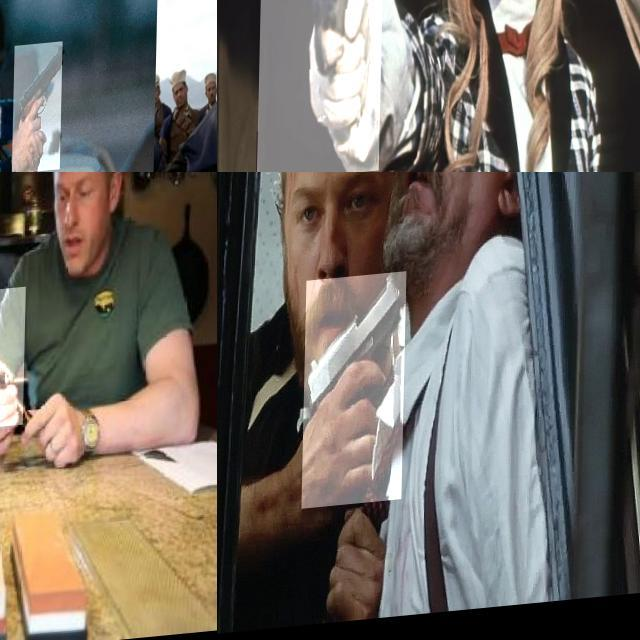-: (0, 294, 38, 438)
gun-knife-thesis - v11 Yolov5 augmented: (304, 277, 408, 514), (0, 0, 159, 149), (259, 0, 386, 172), (14, 46, 64, 172)
